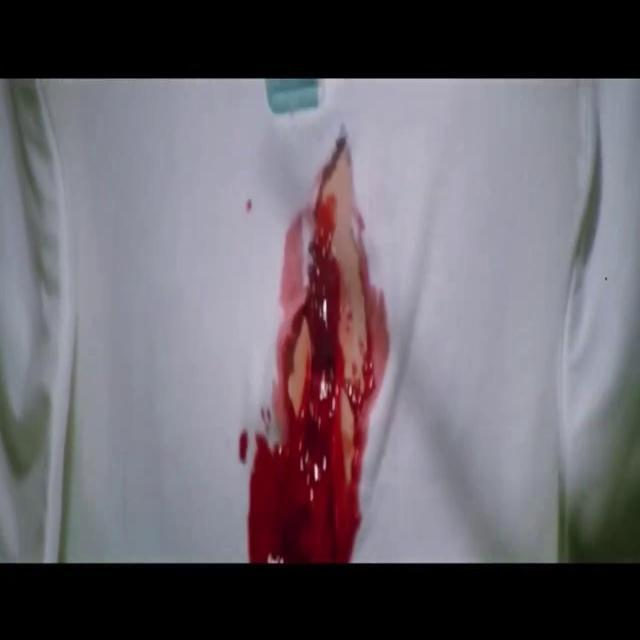flood: (245, 186, 363, 563)
